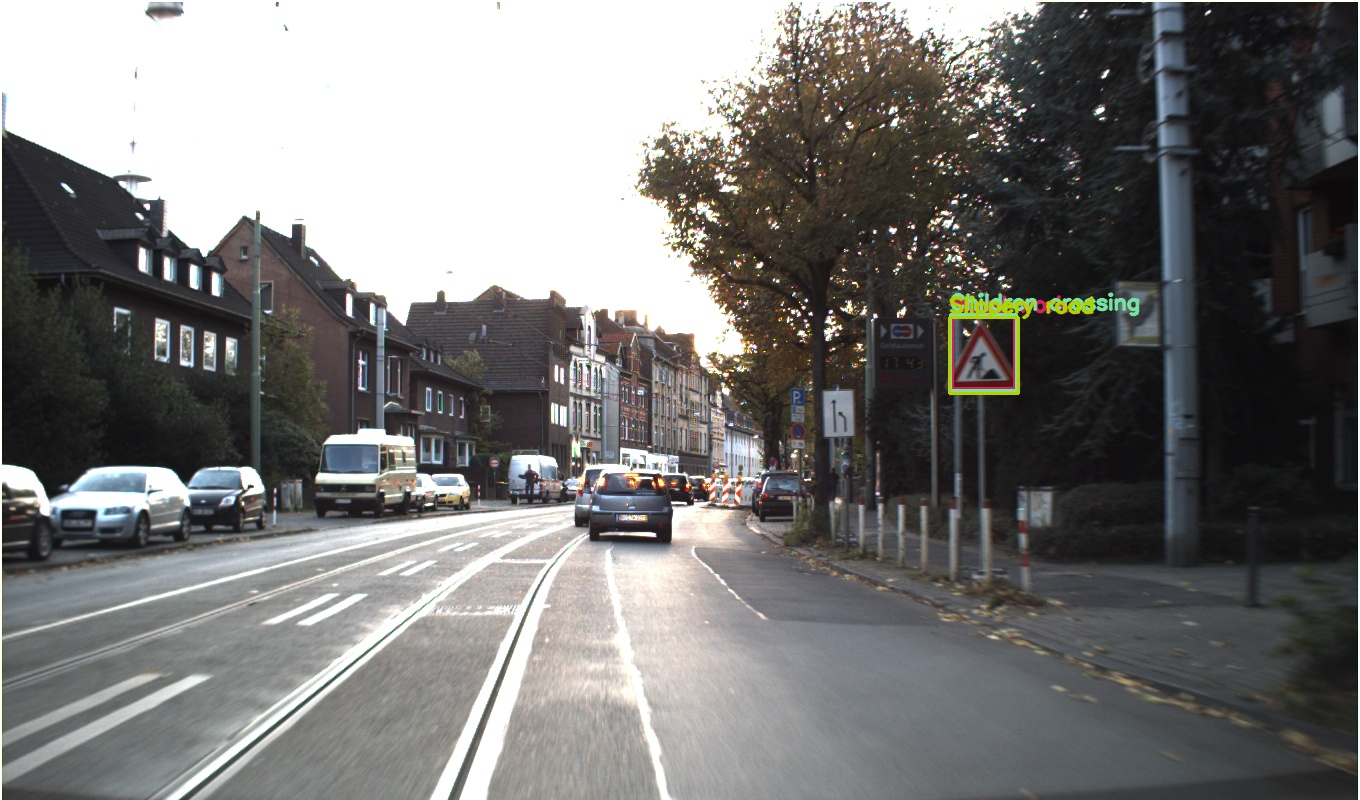Keep right: (148, 446, 196, 499)
Yield: (288, 328, 334, 368), (1125, 338, 1168, 378)
